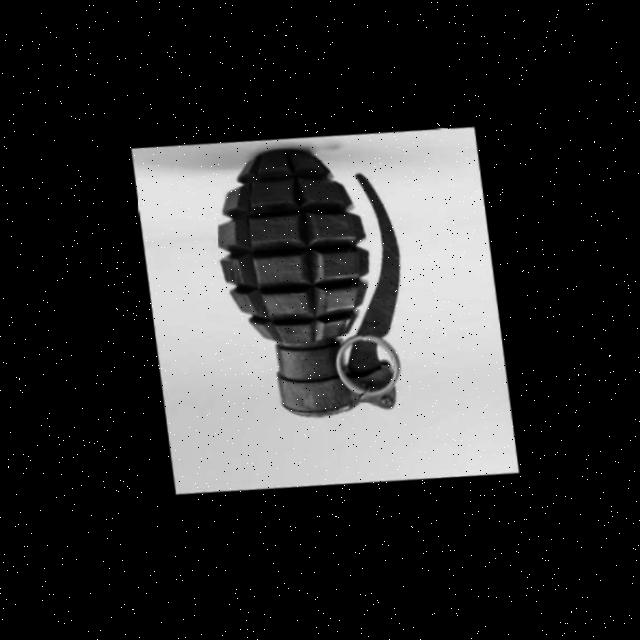grenade: (183, 129, 439, 443)
